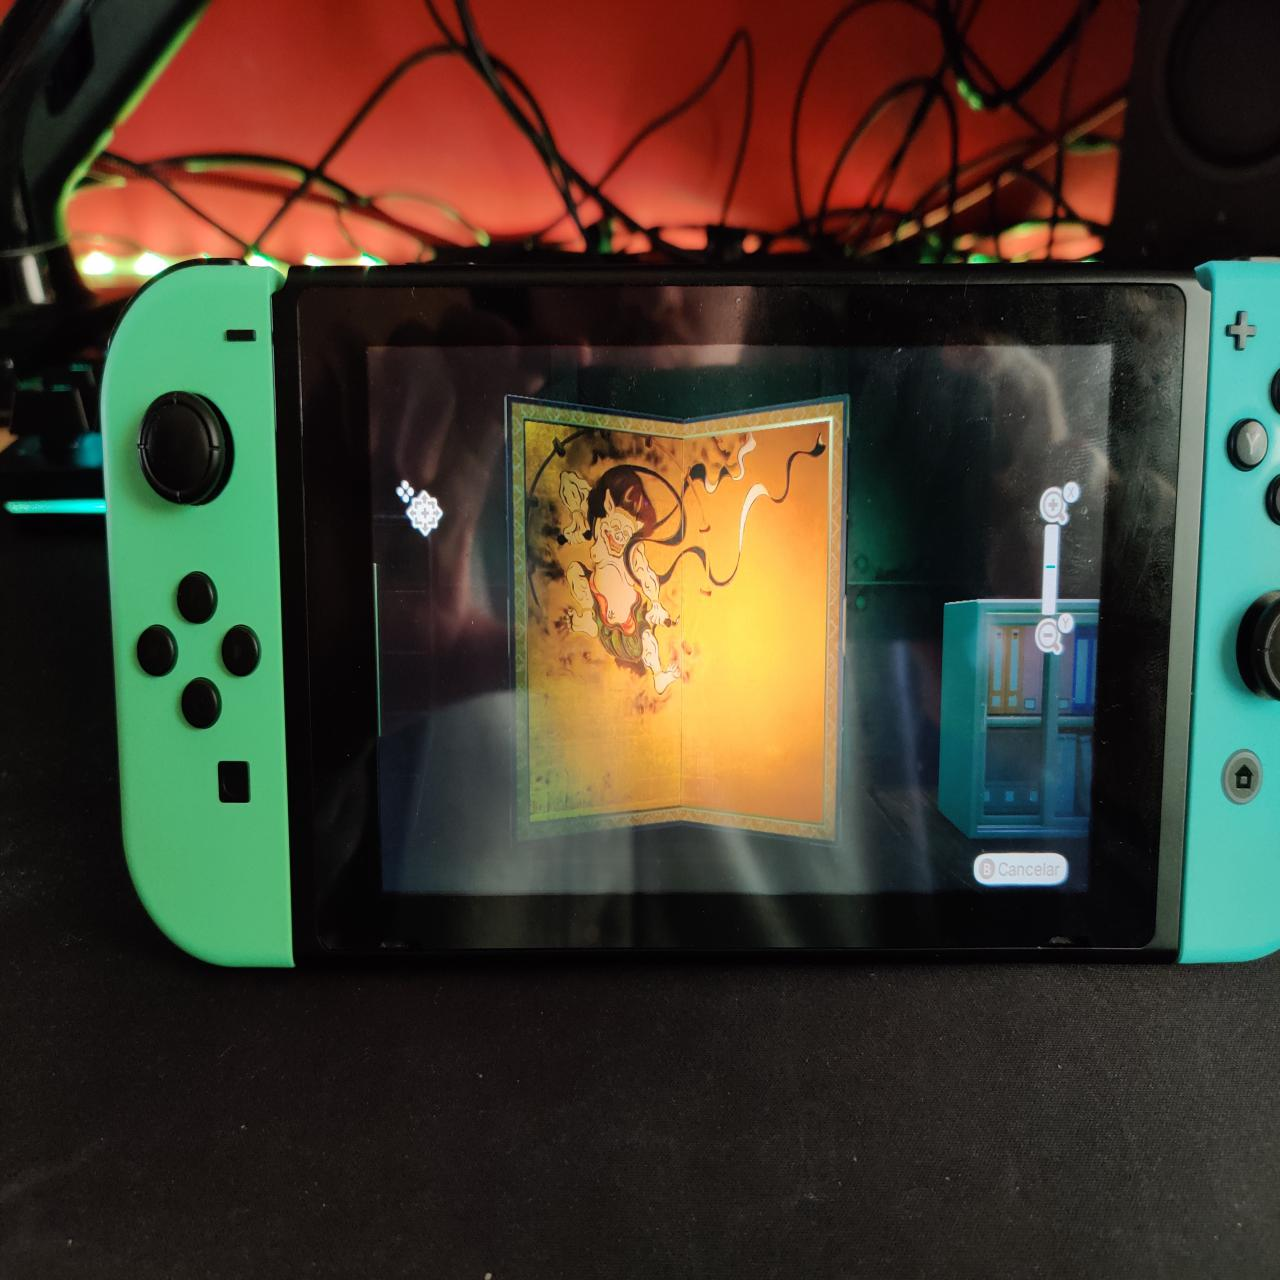Raijin: (508, 399, 843, 842)
